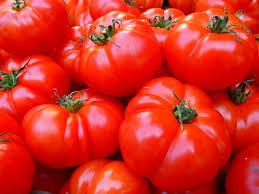tomato: (117, 82, 228, 181), (167, 7, 255, 87), (25, 95, 124, 166), (82, 13, 159, 95), (2, 54, 69, 121), (2, 1, 71, 56), (211, 80, 258, 148), (71, 161, 147, 193)
